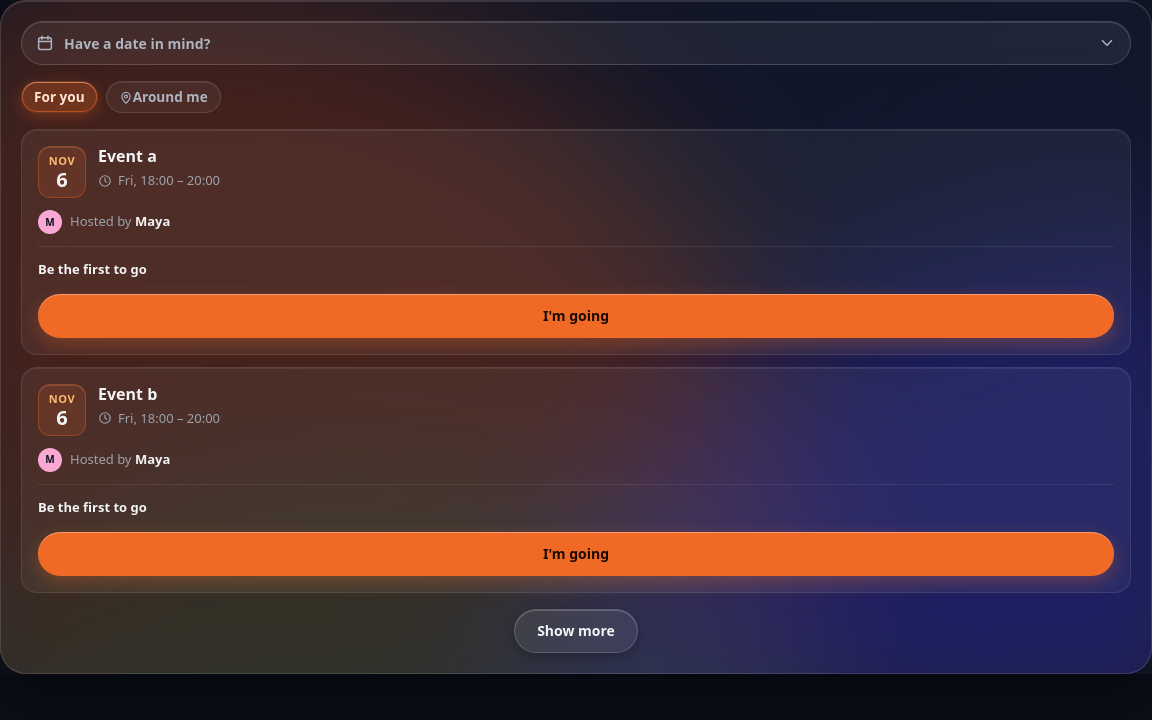
Test: starts on "For you" and loads more cards on demand
Expected: the button "Event a" is shown, [98, 146, 157, 167]
Click the button "Show more" at (576, 631), box [514, 609, 638, 653]
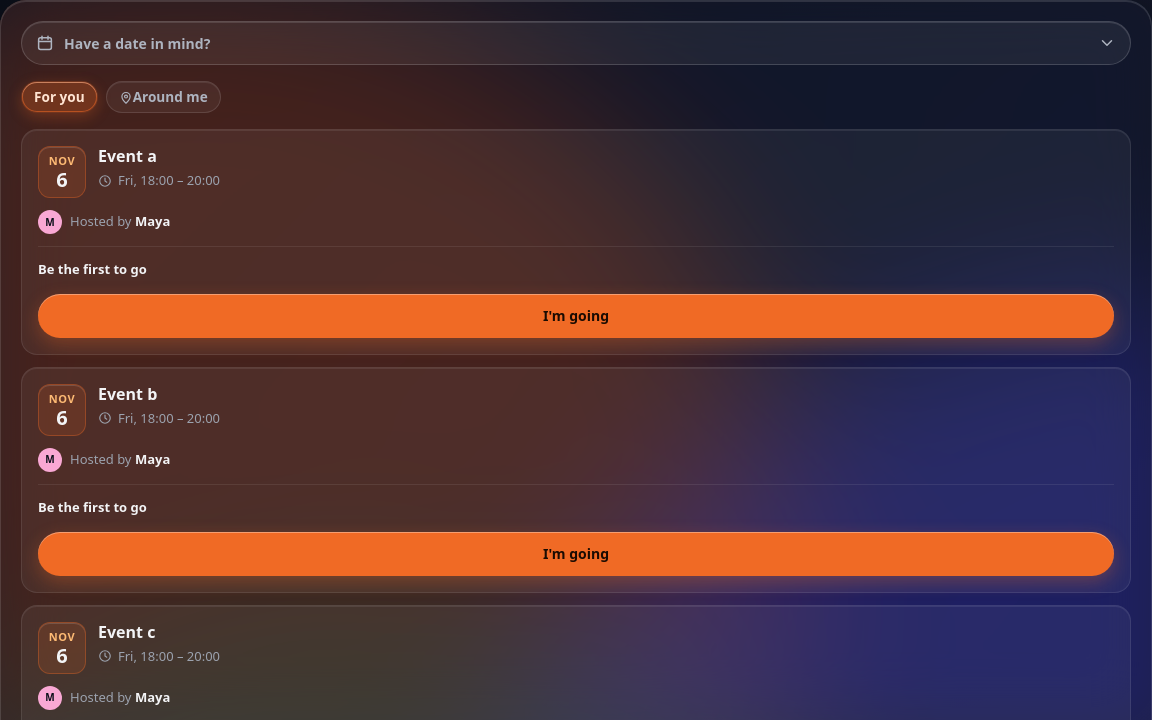
Expected: the number of buttons "Event b" is 1, [98, 384, 157, 405]
Expected: the button "Event c" is shown, [98, 622, 155, 643]
Expected: the button "Show more" is gone
